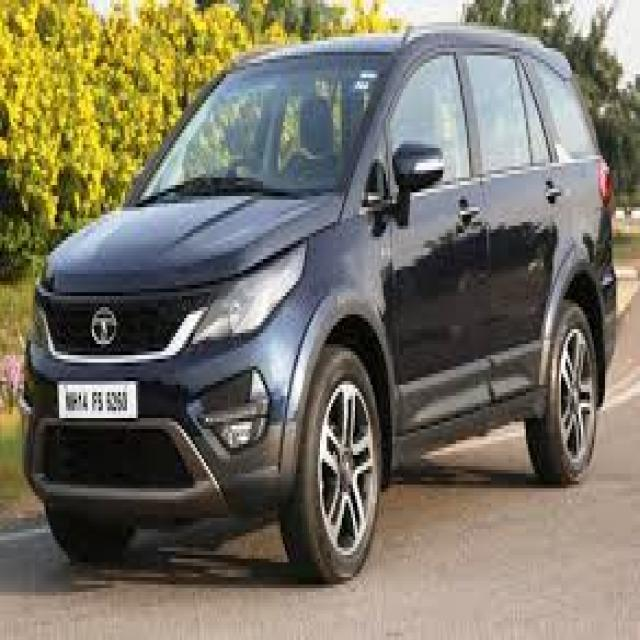SUV: (14, 21, 612, 592)
